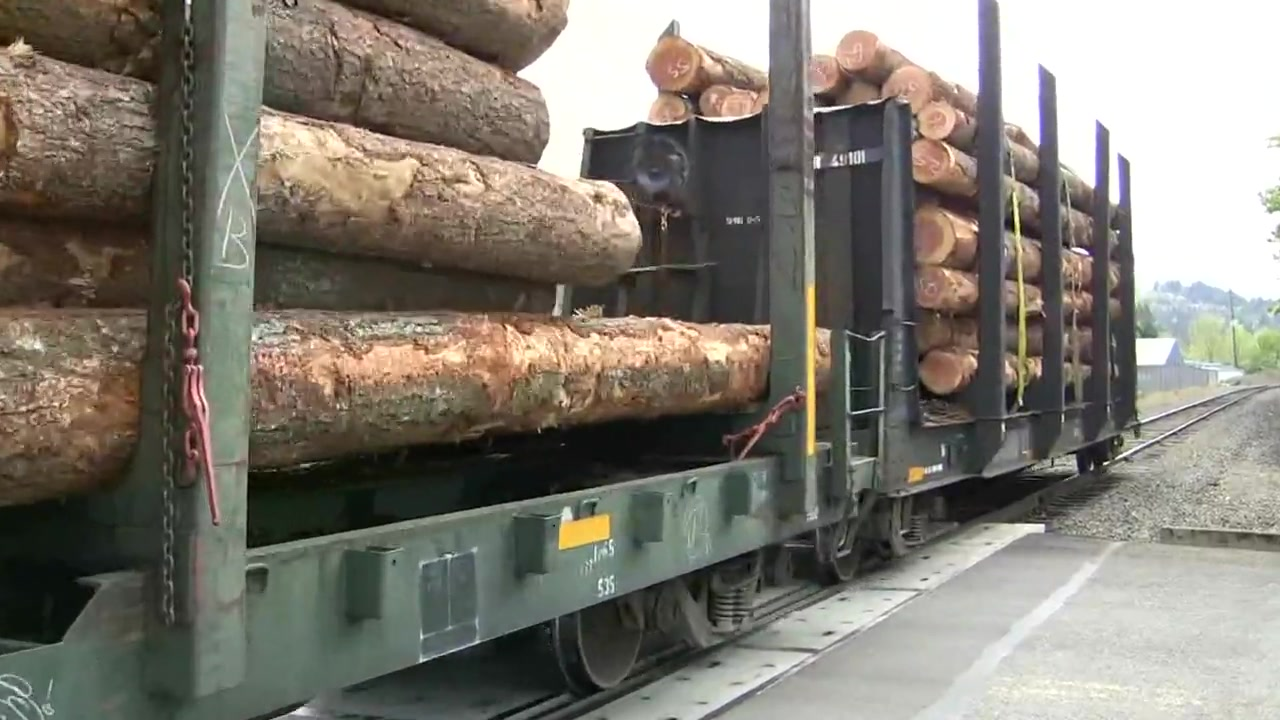train: (1, 1, 1139, 720)
